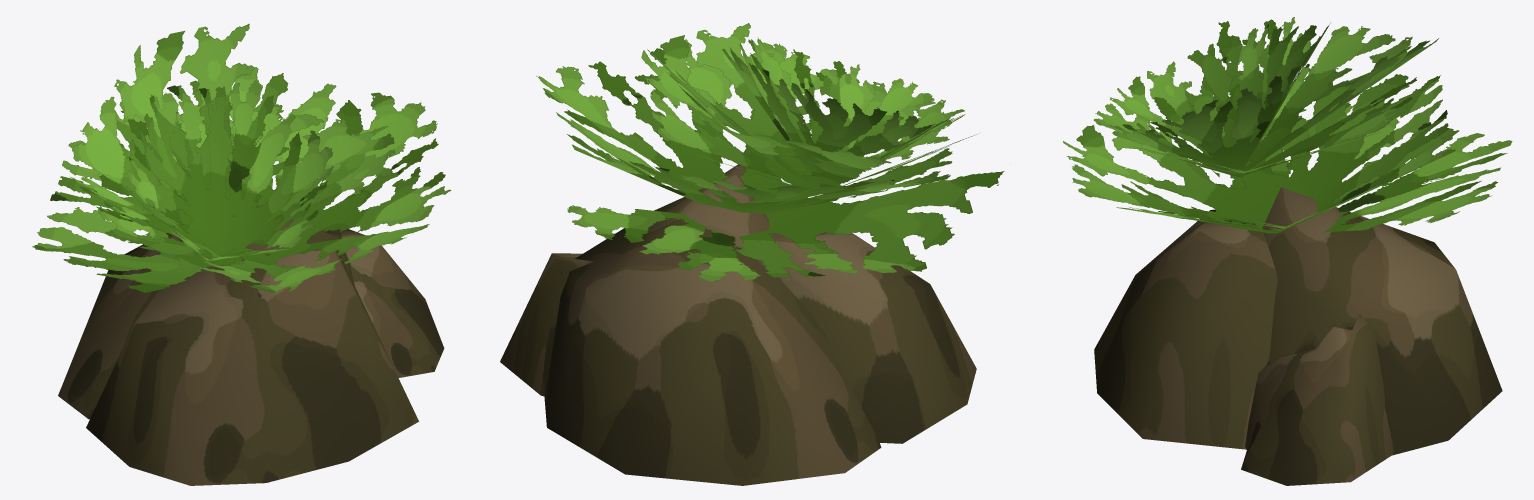
The model's file is Elkhorn Cora 1_preview_3DS_simplified.glb.
The picture shows the model from 3 angles, left to right: view 1: azimuth 30°, elevation 25°; view 2: azimuth 150°, elevation 25°; view 3: azimuth 270°, elevation 25°; orthographic projection. The views are drawn at different scales.
Visible parts, largest first — view 1: Marine Park Empire model; view 2: Marine Park Empire model; view 3: Marine Park Empire model.
Part boxes in pixels (left/top/right/bottom): Marine Park Empire model: left=32, top=24, right=451, bottom=485; Marine Park Empire model: left=500, top=23, right=1004, bottom=485; Marine Park Empire model: left=1063, top=17, right=1512, bottom=485.
Bounding box in the file's own units: 41.5 × 33.71 × 40.2.
2 materials, 2 textured.
